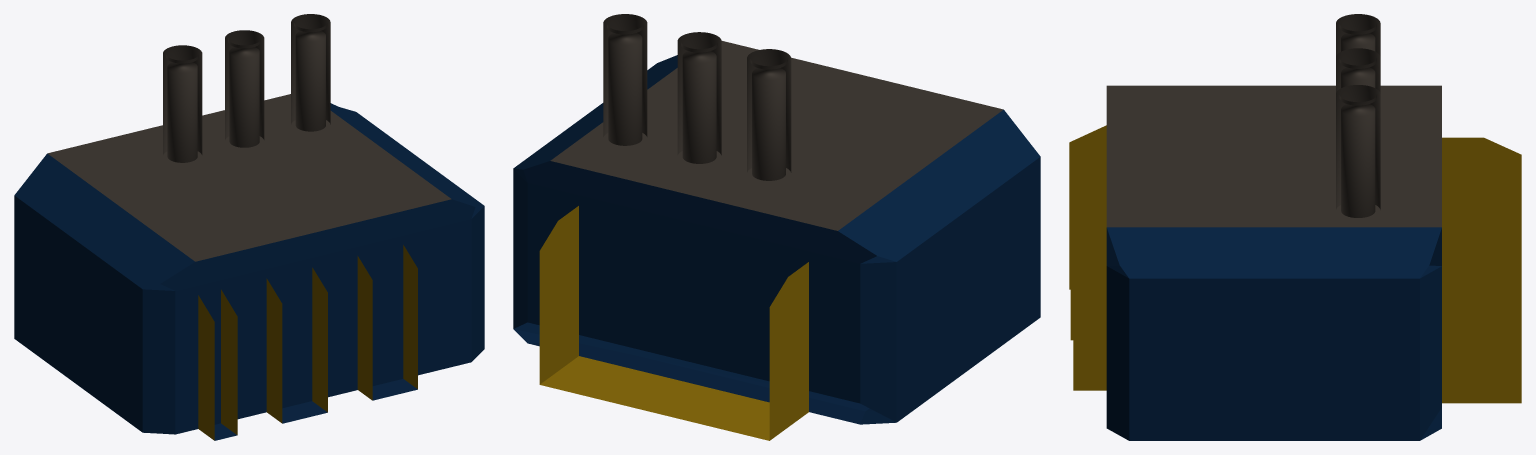
The model's file is hub_blue_lvl3.glb.
3 renders of one model, left to right at view 1: azimuth 30°, elevation 25°; view 2: azimuth 150°, elevation 25°; view 3: azimuth 270°, elevation 25°, orthographic. The views are drawn at different scales.
Parts seen in each view (by area): view 1: Cube, Cylinder.001, Cylinder.003, Cylinder.004; view 2: Cube, Cylinder.003, Cylinder.001, Cylinder.004; view 3: Cube, Cylinder.001, Cylinder.003, Cylinder.004.
Boxes of the visible parts, bbox=[...] form: Cube: bbox=[14, 94, 484, 440]; Cylinder.001: bbox=[291, 14, 330, 131]; Cylinder.003: bbox=[225, 30, 264, 147]; Cylinder.004: bbox=[163, 45, 202, 162]; Cube: bbox=[513, 41, 1040, 440]; Cylinder.003: bbox=[677, 32, 721, 163]; Cylinder.001: bbox=[603, 14, 647, 145]; Cylinder.004: bbox=[747, 49, 791, 180]; Cube: bbox=[1069, 85, 1521, 440]; Cylinder.001: bbox=[1336, 85, 1380, 217]; Cylinder.003: bbox=[1336, 48, 1380, 93]; Cylinder.004: bbox=[1336, 14, 1380, 56].
Bounding box in the file's own units: 8 × 6.3 × 8.09.
